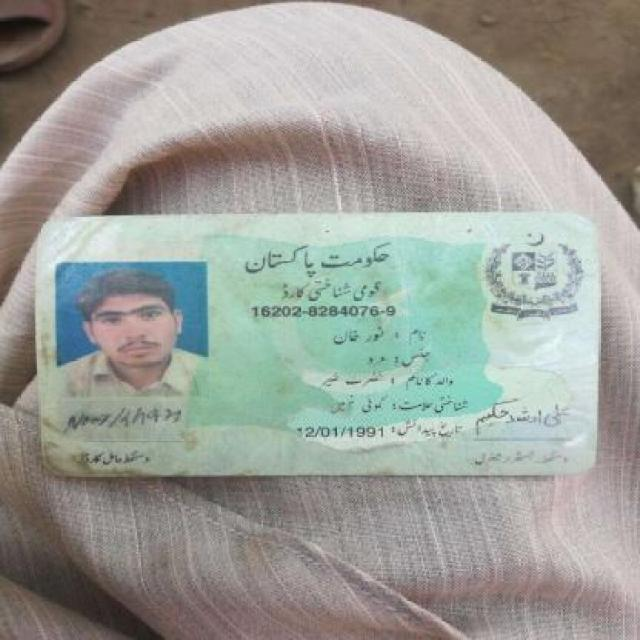Front: (34, 210, 597, 484)
